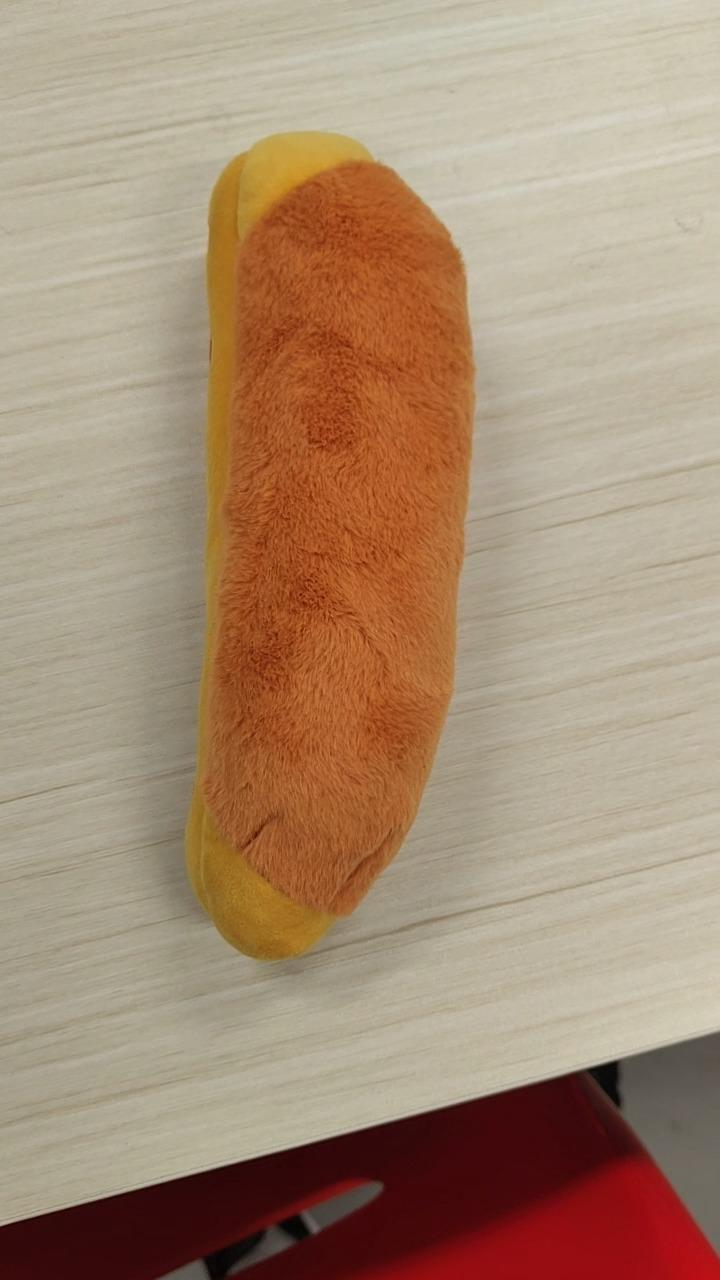hotdog: (182, 128, 476, 962)
